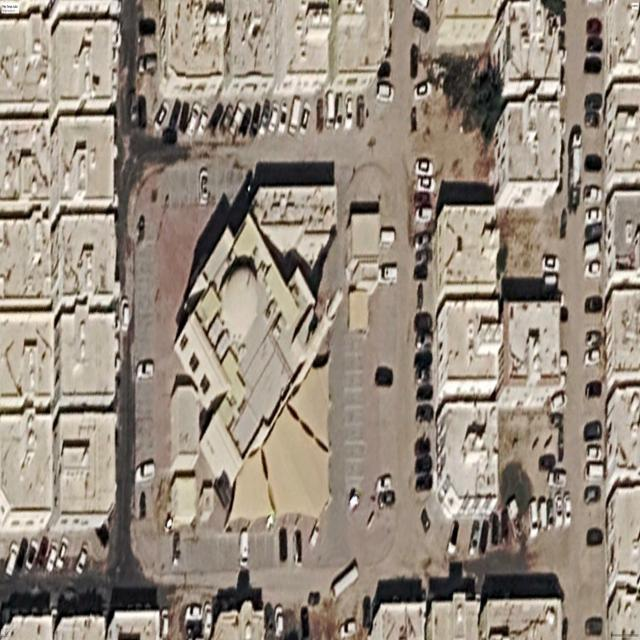Home: (174, 212, 343, 485)
